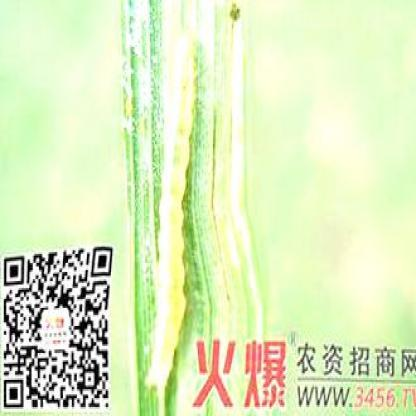leaf-folder: (140, 14, 190, 413)
